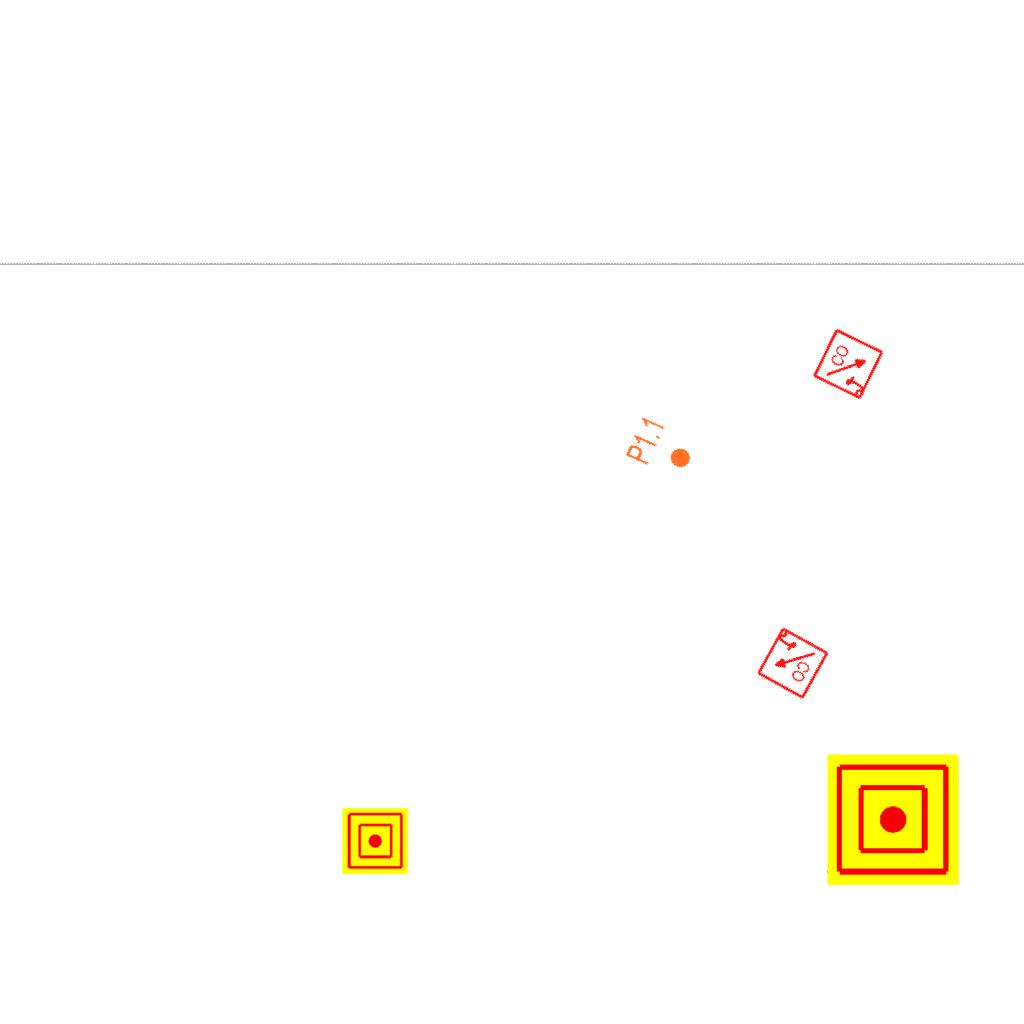Downlight_LED_Einbauleuchten_Flur: (623, 413, 701, 483)
NAM-Nichtautomatischer_Melder: (827, 754, 959, 886), (342, 808, 408, 874)
ROA_Rauchmelder_optisch_mit_Signalgeber_(Sockelsirene): (753, 624, 831, 702), (811, 326, 887, 402)
